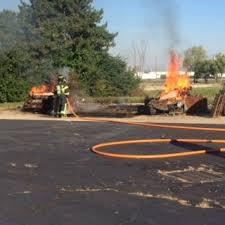fire: (25, 75, 78, 113), (157, 52, 194, 105)
